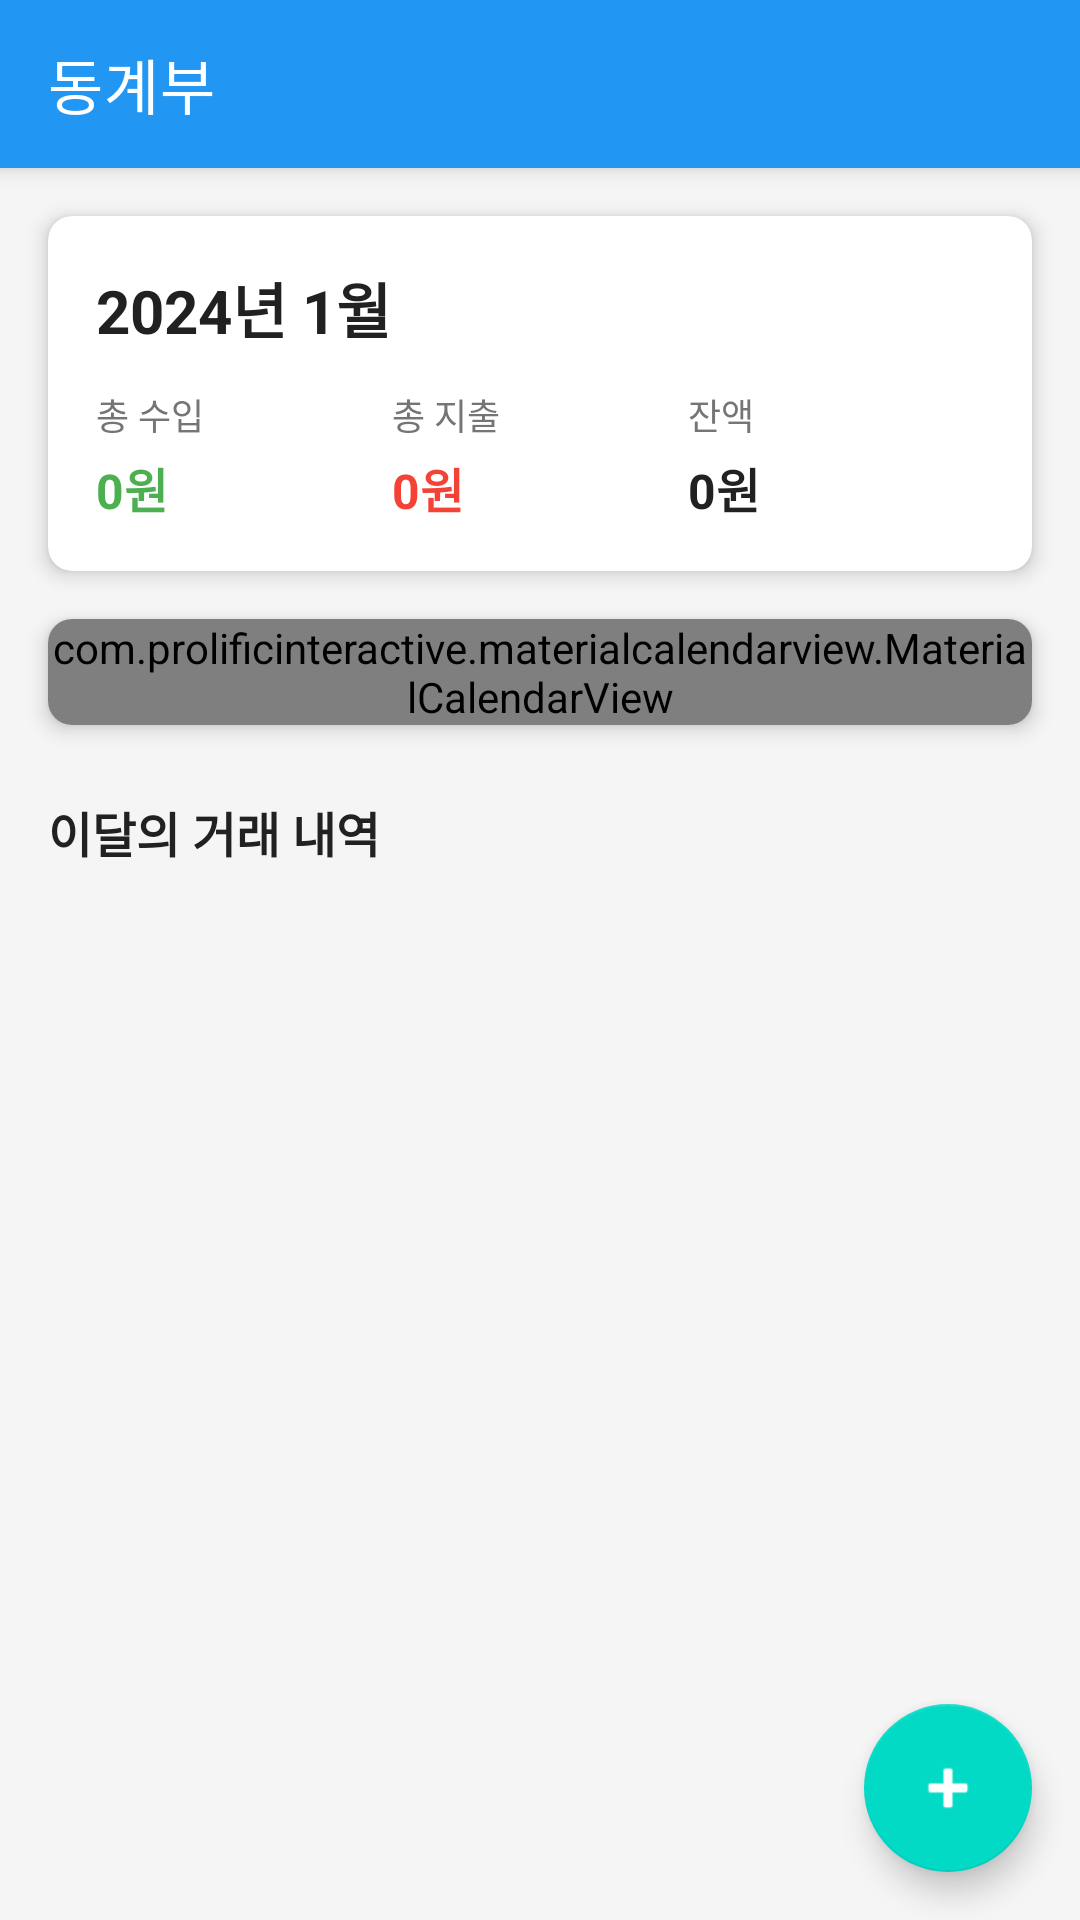

Icon click points for this 1080×1920 phone screenshot, format (x,y):
거래 추가: (948,1788)
